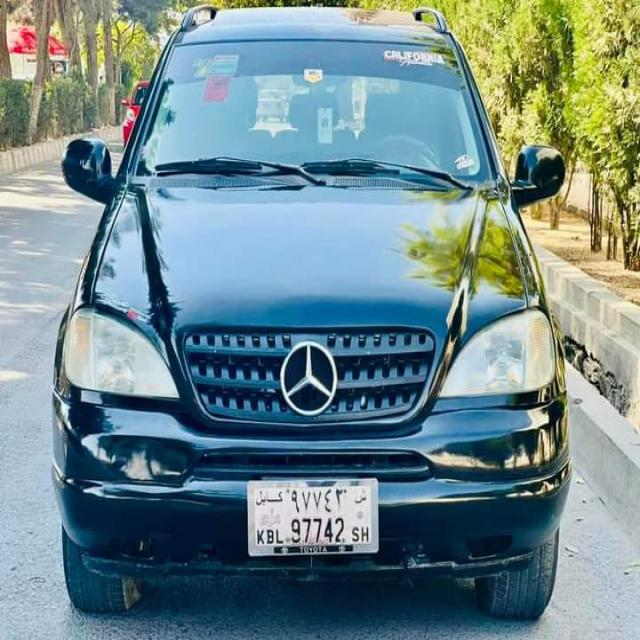Plate: (248, 480, 378, 555)
